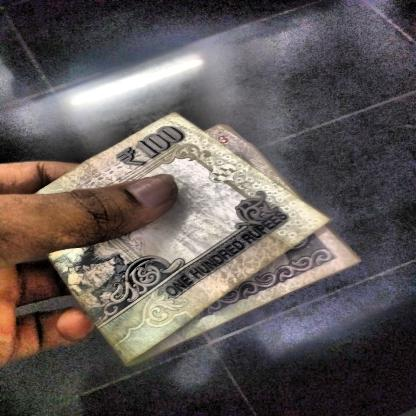Rs100: (108, 120, 196, 176)
